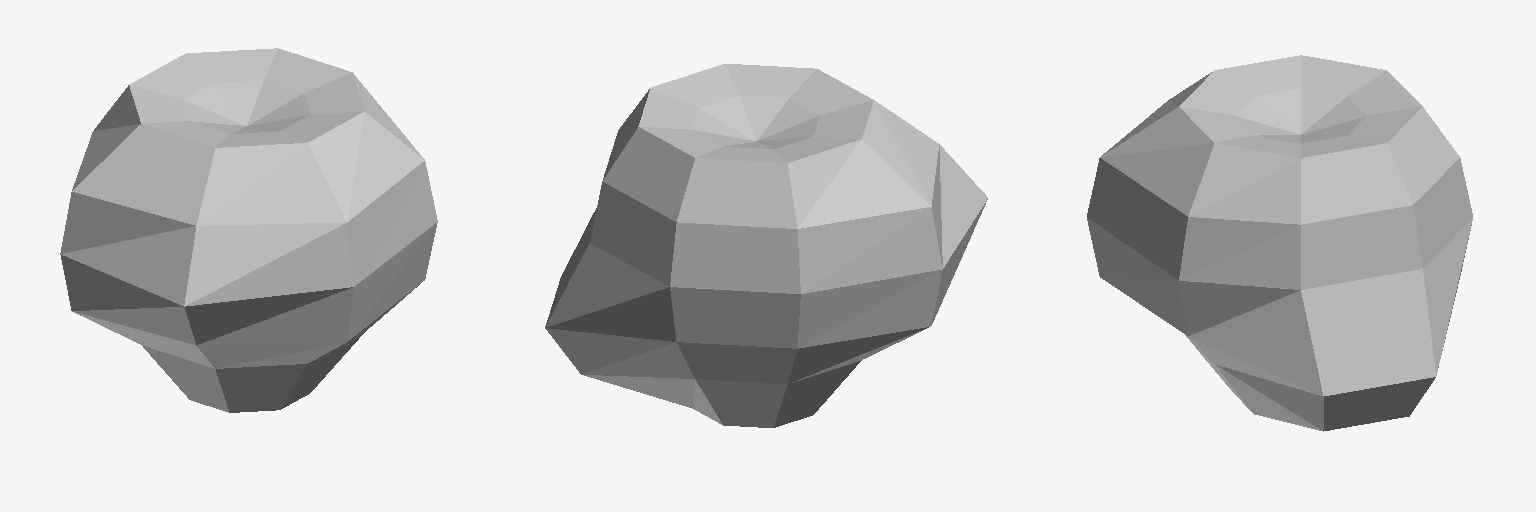
File: asteroid2.obj
The picture shows the model from 3 angles: view 1: azimuth 30°, elevation 25°; view 2: azimuth 150°, elevation 25°; view 3: azimuth 270°, elevation 25°; orthographic projection.
Size of the model in its own units: 2.48 by 1.92 by 2.24.